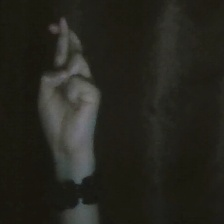R: (32, 12, 114, 160)
